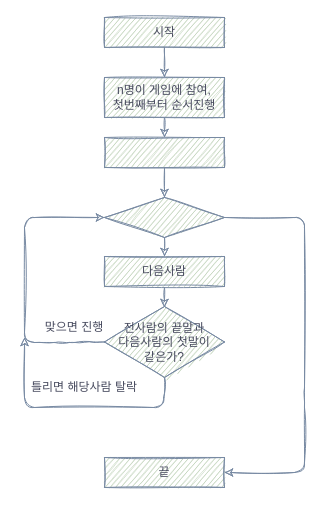
Image size: 330x505. Some labels were removed from this diagram. The shapes that lost their labels are listed below. From the top down, each one's centre as x and y in pixels, then its label:
At [164,152]: "첫번째 사람 제시어".
At [164,217]: "사람수가 한명이 아닐때".
